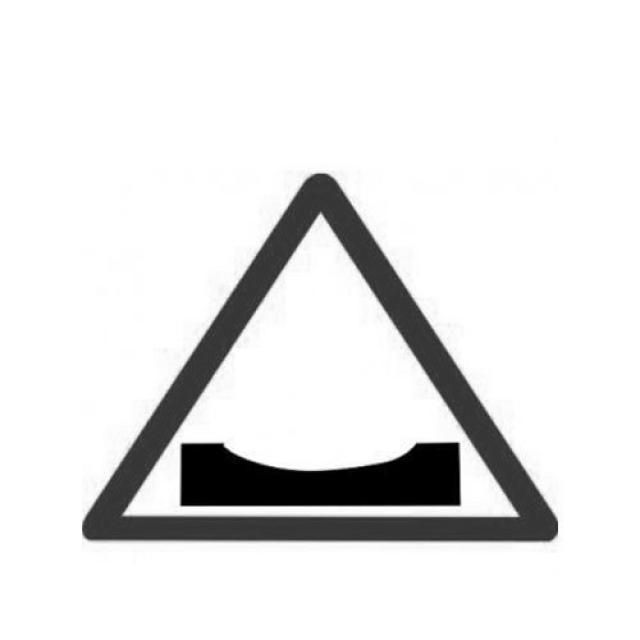dangerous dip: (79, 171, 561, 553)
